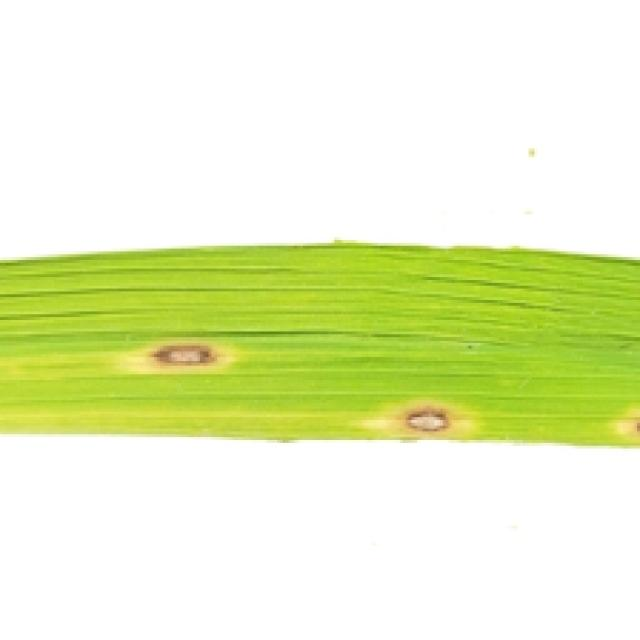Rice___Rice_Blast: (0, 245, 637, 448)
